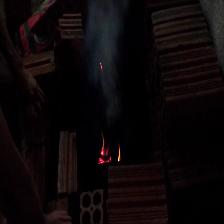fire: (99, 135, 122, 165)
smoke: (88, 5, 122, 117)
